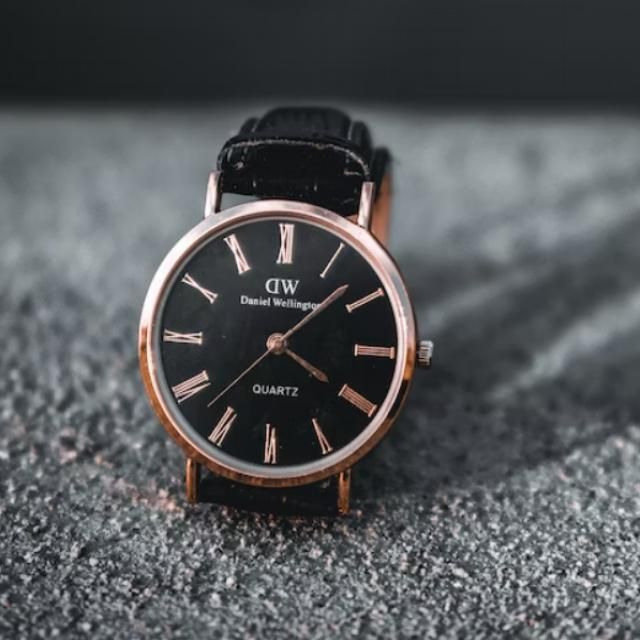Watch: (138, 99, 437, 515)
